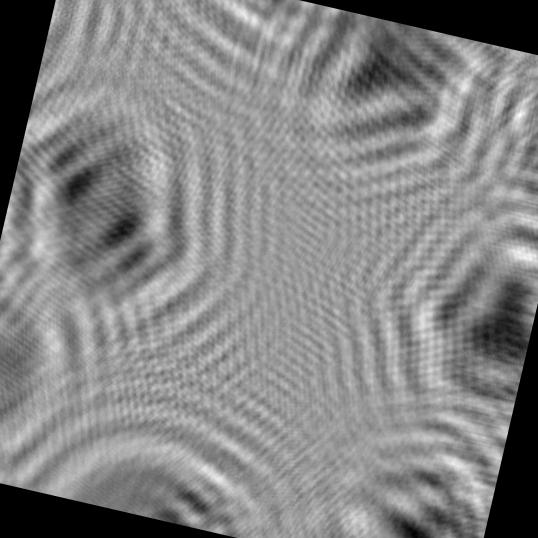A: (329, 159, 538, 478)
H: (431, 40, 538, 259)
M: (278, 367, 512, 538)
U: (0, 332, 337, 538)
V: (213, 0, 519, 244)
Z: (0, 46, 268, 370)
